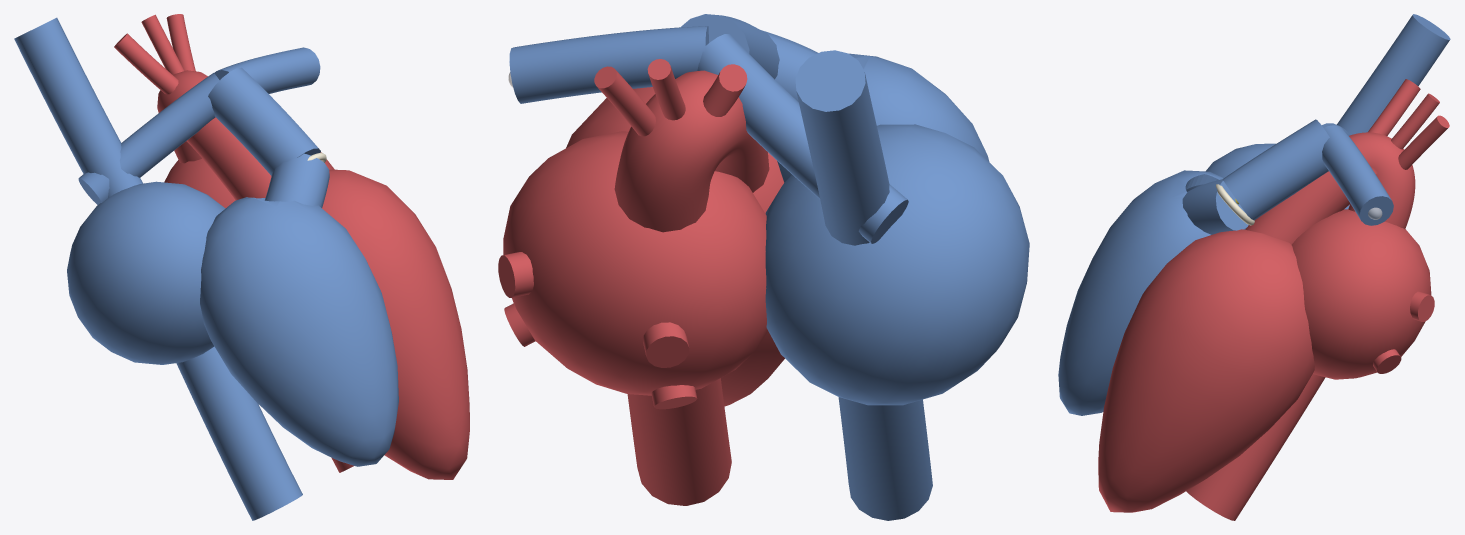
The model's file is heart_animated.glb.
3 renders of one model, left to right at view 1: azimuth 30°, elevation 25°; view 2: azimuth 150°, elevation 25°; view 3: azimuth 270°, elevation 25°, orthographic. The views are drawn at different scales.
Parts seen in each view (by area): view 1: HRT_RV, HRT_LV, HRT_RA, HRT_VES_IVC, HRT_VES_SVC, HRT_VES_PAtrunk, HRT_VES_RPA, HRT_VES_Aorta, HRT_VES_LPA, HRT_RVOT, HRT_LA, HRT_VES_Brachioceph (+2 smaller); view 2: HRT_RA, HRT_LA, HRT_VES_Aorta, HRT_VES_SVC, HRT_VES_LPA, HRT_VES_IVC, HRT_VES_RPA, HRT_RV, HRT_LV, HRT_VES_PAtrunk, HRT_VES_LSubclav, HRT_VES_RUPV (+6 smaller); view 3: HRT_LV, HRT_LA, HRT_RV, HRT_VES_Aorta, HRT_VES_PAtrunk, HRT_VES_SVC, HRT_VES_LPA, HRT_RVOT, HRT_VES_Brachioceph, HRT_VES_LSubclav, HRT_RA, HRT_VES_LCarotid (+2 smaller).
Boxes of the visible parts, left/top/right/bottom form: HRT_RV: left=200, top=197, right=398, bottom=466; HRT_LV: left=322, top=169, right=469, bottom=479; HRT_RA: left=67, top=181, right=225, bottom=364; HRT_VES_IVC: left=176, top=346, right=302, bottom=520; HRT_VES_SVC: left=14, top=17, right=143, bottom=197; HRT_VES_PAtrunk: left=208, top=67, right=320, bottom=175; HRT_VES_RPA: left=78, top=73, right=219, bottom=204; HRT_VES_Aorta: left=157, top=70, right=353, bottom=472; HRT_VES_LPA: left=214, top=47, right=320, bottom=93; HRT_RVOT: left=265, top=153, right=329, bottom=207; HRT_LA: left=164, top=152, right=334, bottom=208; HRT_VES_Brachioceph: left=114, top=33, right=178, bottom=94; HRT_RA: left=765, top=124, right=1029, bottom=405; HRT_LA: left=503, top=131, right=767, bottom=395; HRT_VES_Aorta: left=614, top=70, right=769, bottom=505; HRT_VES_SVC: left=795, top=50, right=889, bottom=245; HRT_VES_LPA: left=509, top=26, right=709, bottom=103; HRT_VES_IVC: left=838, top=397, right=932, bottom=520; HRT_VES_RPA: left=697, top=34, right=908, bottom=243; HRT_RV: left=777, top=53, right=989, bottom=182; HRT_LV: left=566, top=87, right=784, bottom=406; HRT_VES_PAtrunk: left=680, top=14, right=779, bottom=79; HRT_VES_LSubclav: left=594, top=66, right=655, bottom=136; HRT_VES_RUPV: left=643, top=322, right=689, bottom=367; HRT_LV: left=1098, top=229, right=1314, bottom=512; HRT_LA: left=1291, top=209, right=1431, bottom=379; HRT_RV: left=1058, top=170, right=1246, bottom=415; HRT_VES_Aorta: left=1186, top=132, right=1415, bottom=520; HRT_VES_PAtrunk: left=1222, top=119, right=1329, bottom=220; HRT_VES_SVC: left=1336, top=14, right=1450, bottom=134; HRT_VES_LPA: left=1322, top=125, right=1393, bottom=225; HRT_RVOT: left=1182, top=179, right=1248, bottom=234; HRT_VES_Brachioceph: left=1368, top=79, right=1420, bottom=135; HRT_VES_LSubclav: left=1398, top=115, right=1449, bottom=169; HRT_RA: left=1206, top=143, right=1349, bottom=209; HRT_VES_LCarotid: left=1391, top=93, right=1439, bottom=149.
Bounding box in the file's own units: 6.63 × 8.26 × 7.22.
